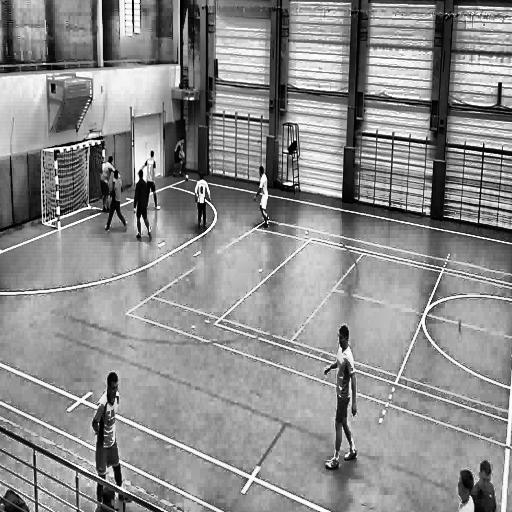ball: (184, 173, 190, 183)
player: (323, 322, 358, 472), (91, 370, 125, 504), (104, 171, 126, 234), (134, 170, 153, 242), (251, 165, 270, 232), (193, 172, 211, 236), (142, 149, 160, 210), (99, 154, 116, 215), (172, 135, 186, 180)
